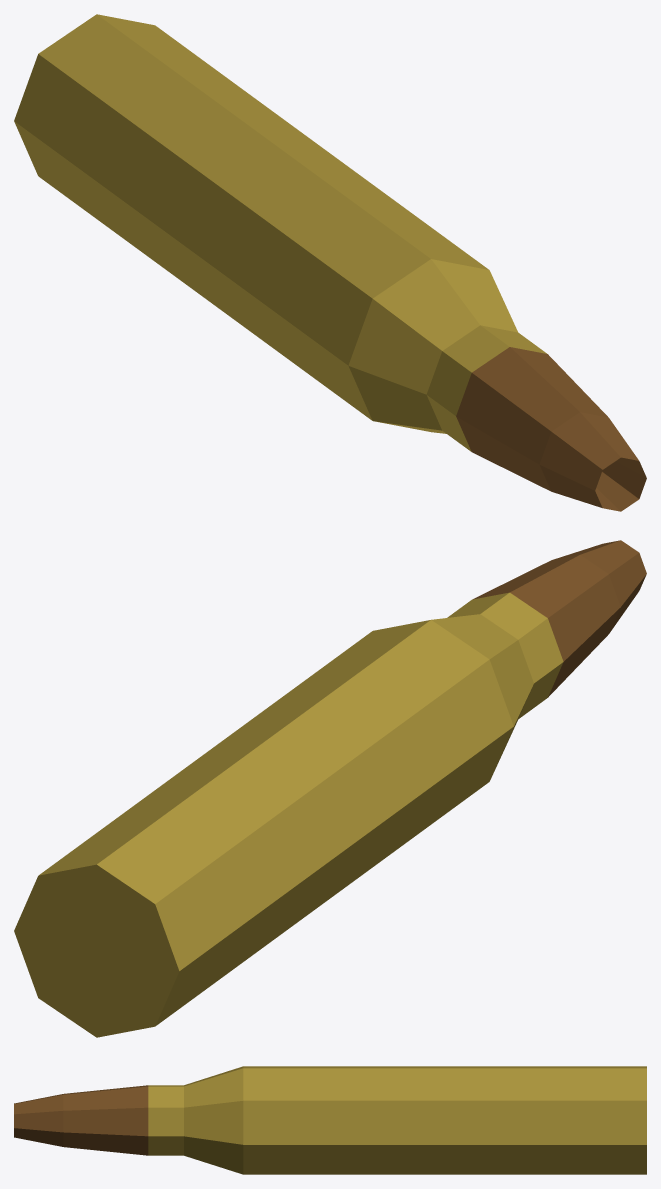
The model's file is HollowPointMedium.glb.
The picture shows the model from 3 angles, top to bottom: view 1: azimuth 30°, elevation 25°; view 2: azimuth 150°, elevation 25°; view 3: azimuth 270°, elevation 25°; orthographic projection. The views are drawn at different scales.
Visible parts, largest first — view 1: HollowPointMedium; view 2: HollowPointMedium; view 3: HollowPointMedium.
Part boxes in pixels (left/top/right/bottom): HollowPointMedium: left=14, top=14, right=646, bottom=511; HollowPointMedium: left=14, top=540, right=646, bottom=1037; HollowPointMedium: left=14, top=1066, right=646, bottom=1174.
Size of the model in its own units: 0.00971 by 0.00971 by 0.0533.
Materials: 1 (1 with a texture image).
